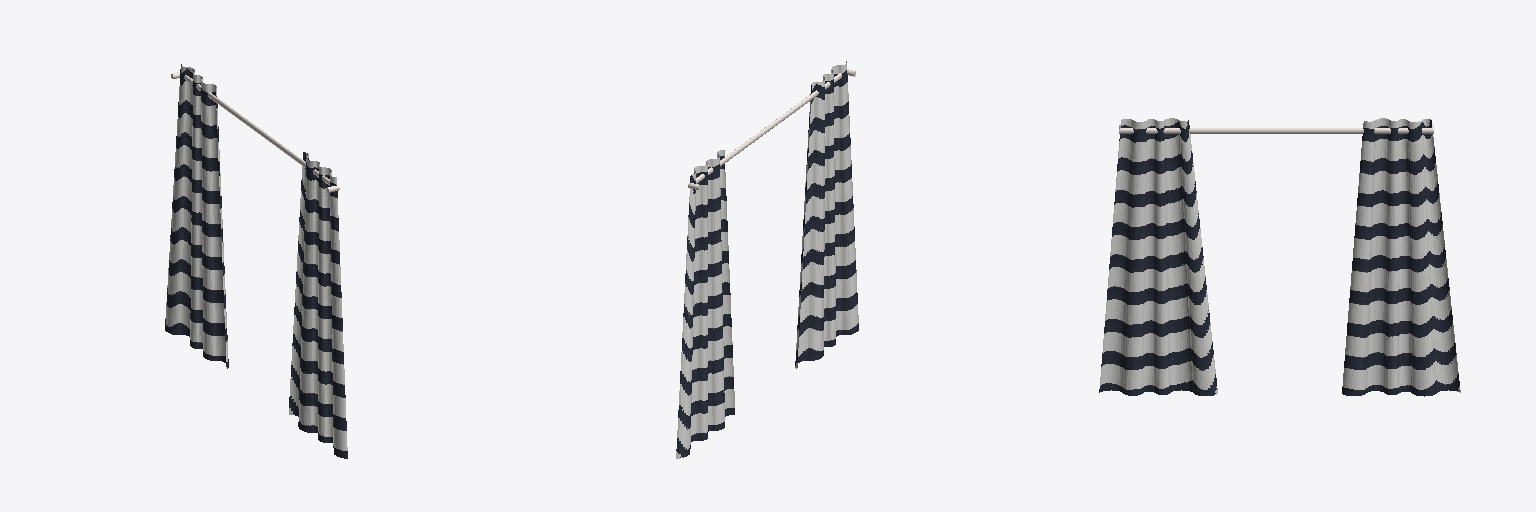
3 views of the same model, side by side, from view 1: azimuth 30°, elevation 25°; view 2: azimuth 150°, elevation 25°; view 3: azimuth 270°, elevation 25° (orthographic).
Parts seen in each view (by area): view 1: Mesh2_Curtain1_Curtain_Rod_with_curtains1_Model; view 2: Mesh2_Curtain1_Curtain_Rod_with_curtains1_Model; view 3: Mesh2_Curtain1_Curtain_Rod_with_curtains1_Model.
Boxes of the visible parts, box(x1,y1,x2,y2) form: Mesh2_Curtain1_Curtain_Rod_with_curtains1_Model: box(165, 64, 347, 458); Mesh2_Curtain1_Curtain_Rod_with_curtains1_Model: box(676, 61, 858, 458); Mesh2_Curtain1_Curtain_Rod_with_curtains1_Model: box(1099, 118, 1460, 396).
Size of the model in its own units: 0.0592 by 1 by 1.2.
2 materials, 1 textured.